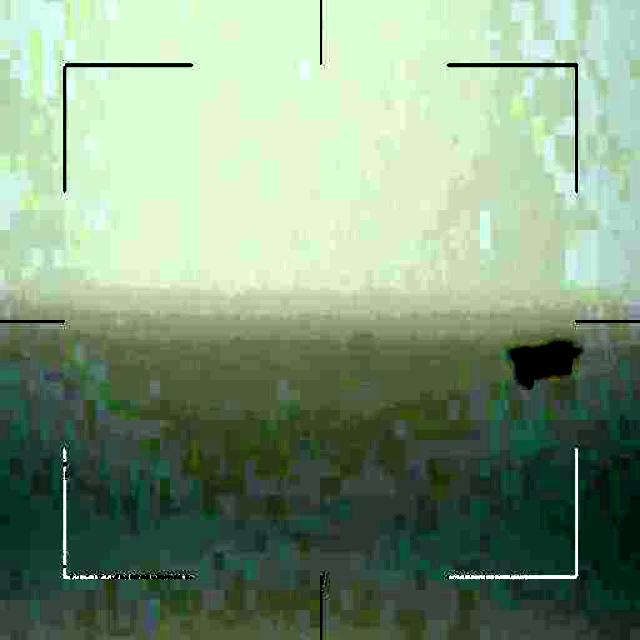bird: (512, 336, 582, 388)
